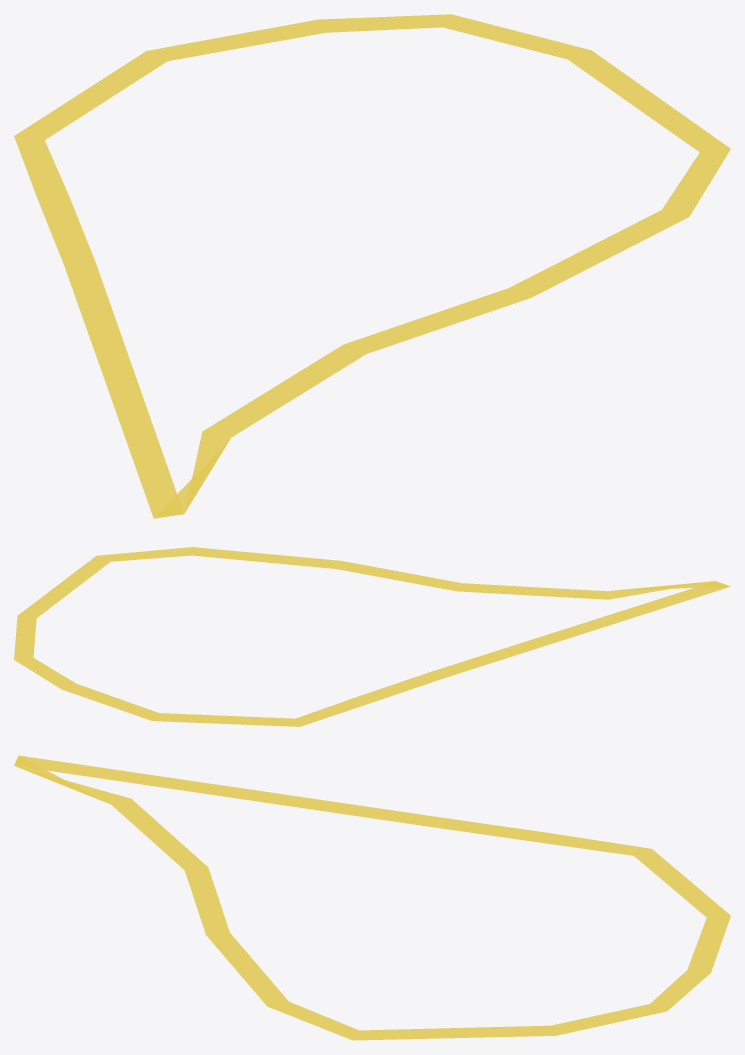
The model's file is route_rootsiturg_loop.glb.
3 views of the same model, one above another, from view 1: azimuth 30°, elevation 25°; view 2: azimuth 150°, elevation 25°; view 3: azimuth 270°, elevation 25° (orthographic). The views are drawn at different scales.
Parts seen in each view (by area): view 1: RootsiturgLoop; view 2: RootsiturgLoop; view 3: RootsiturgLoop.
Boxes of the visible parts, x1,y1,x2,y2 form: RootsiturgLoop: (14,14,730,518); RootsiturgLoop: (14,547,730,726); RootsiturgLoop: (14,755,730,1040).
Size of the model in its own units: 35.32 by 0.7717 by 36.06.
